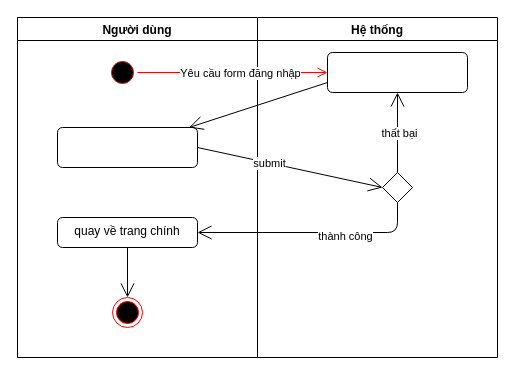
The diagram is 515 pixels wide and 375 high, and some of its shapes have lost their labels. The centre of each missing label's shape, as x and y in pixels:
hiển thị form đăng nhập: point 397,72
Nhập thông tin đăng nhập: point 127,147
